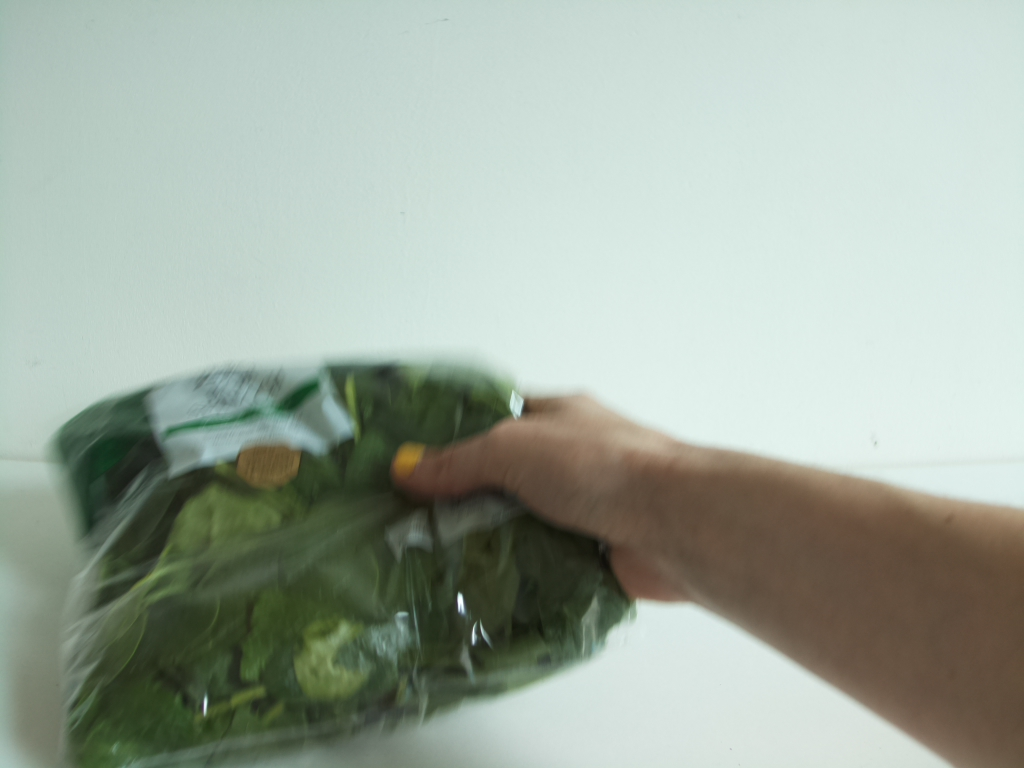salad: (54, 354, 638, 761)
